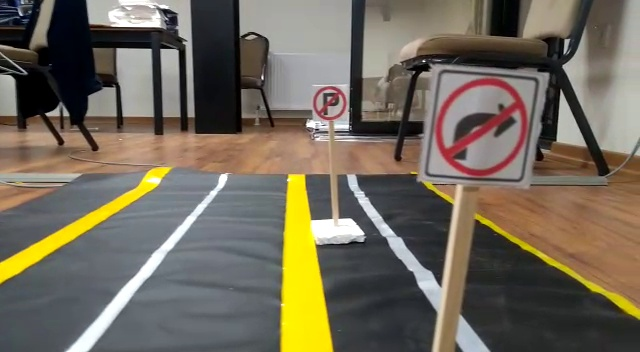park_yapilmaz: (308, 85, 350, 120)
saga_donulmez: (436, 68, 530, 182)
